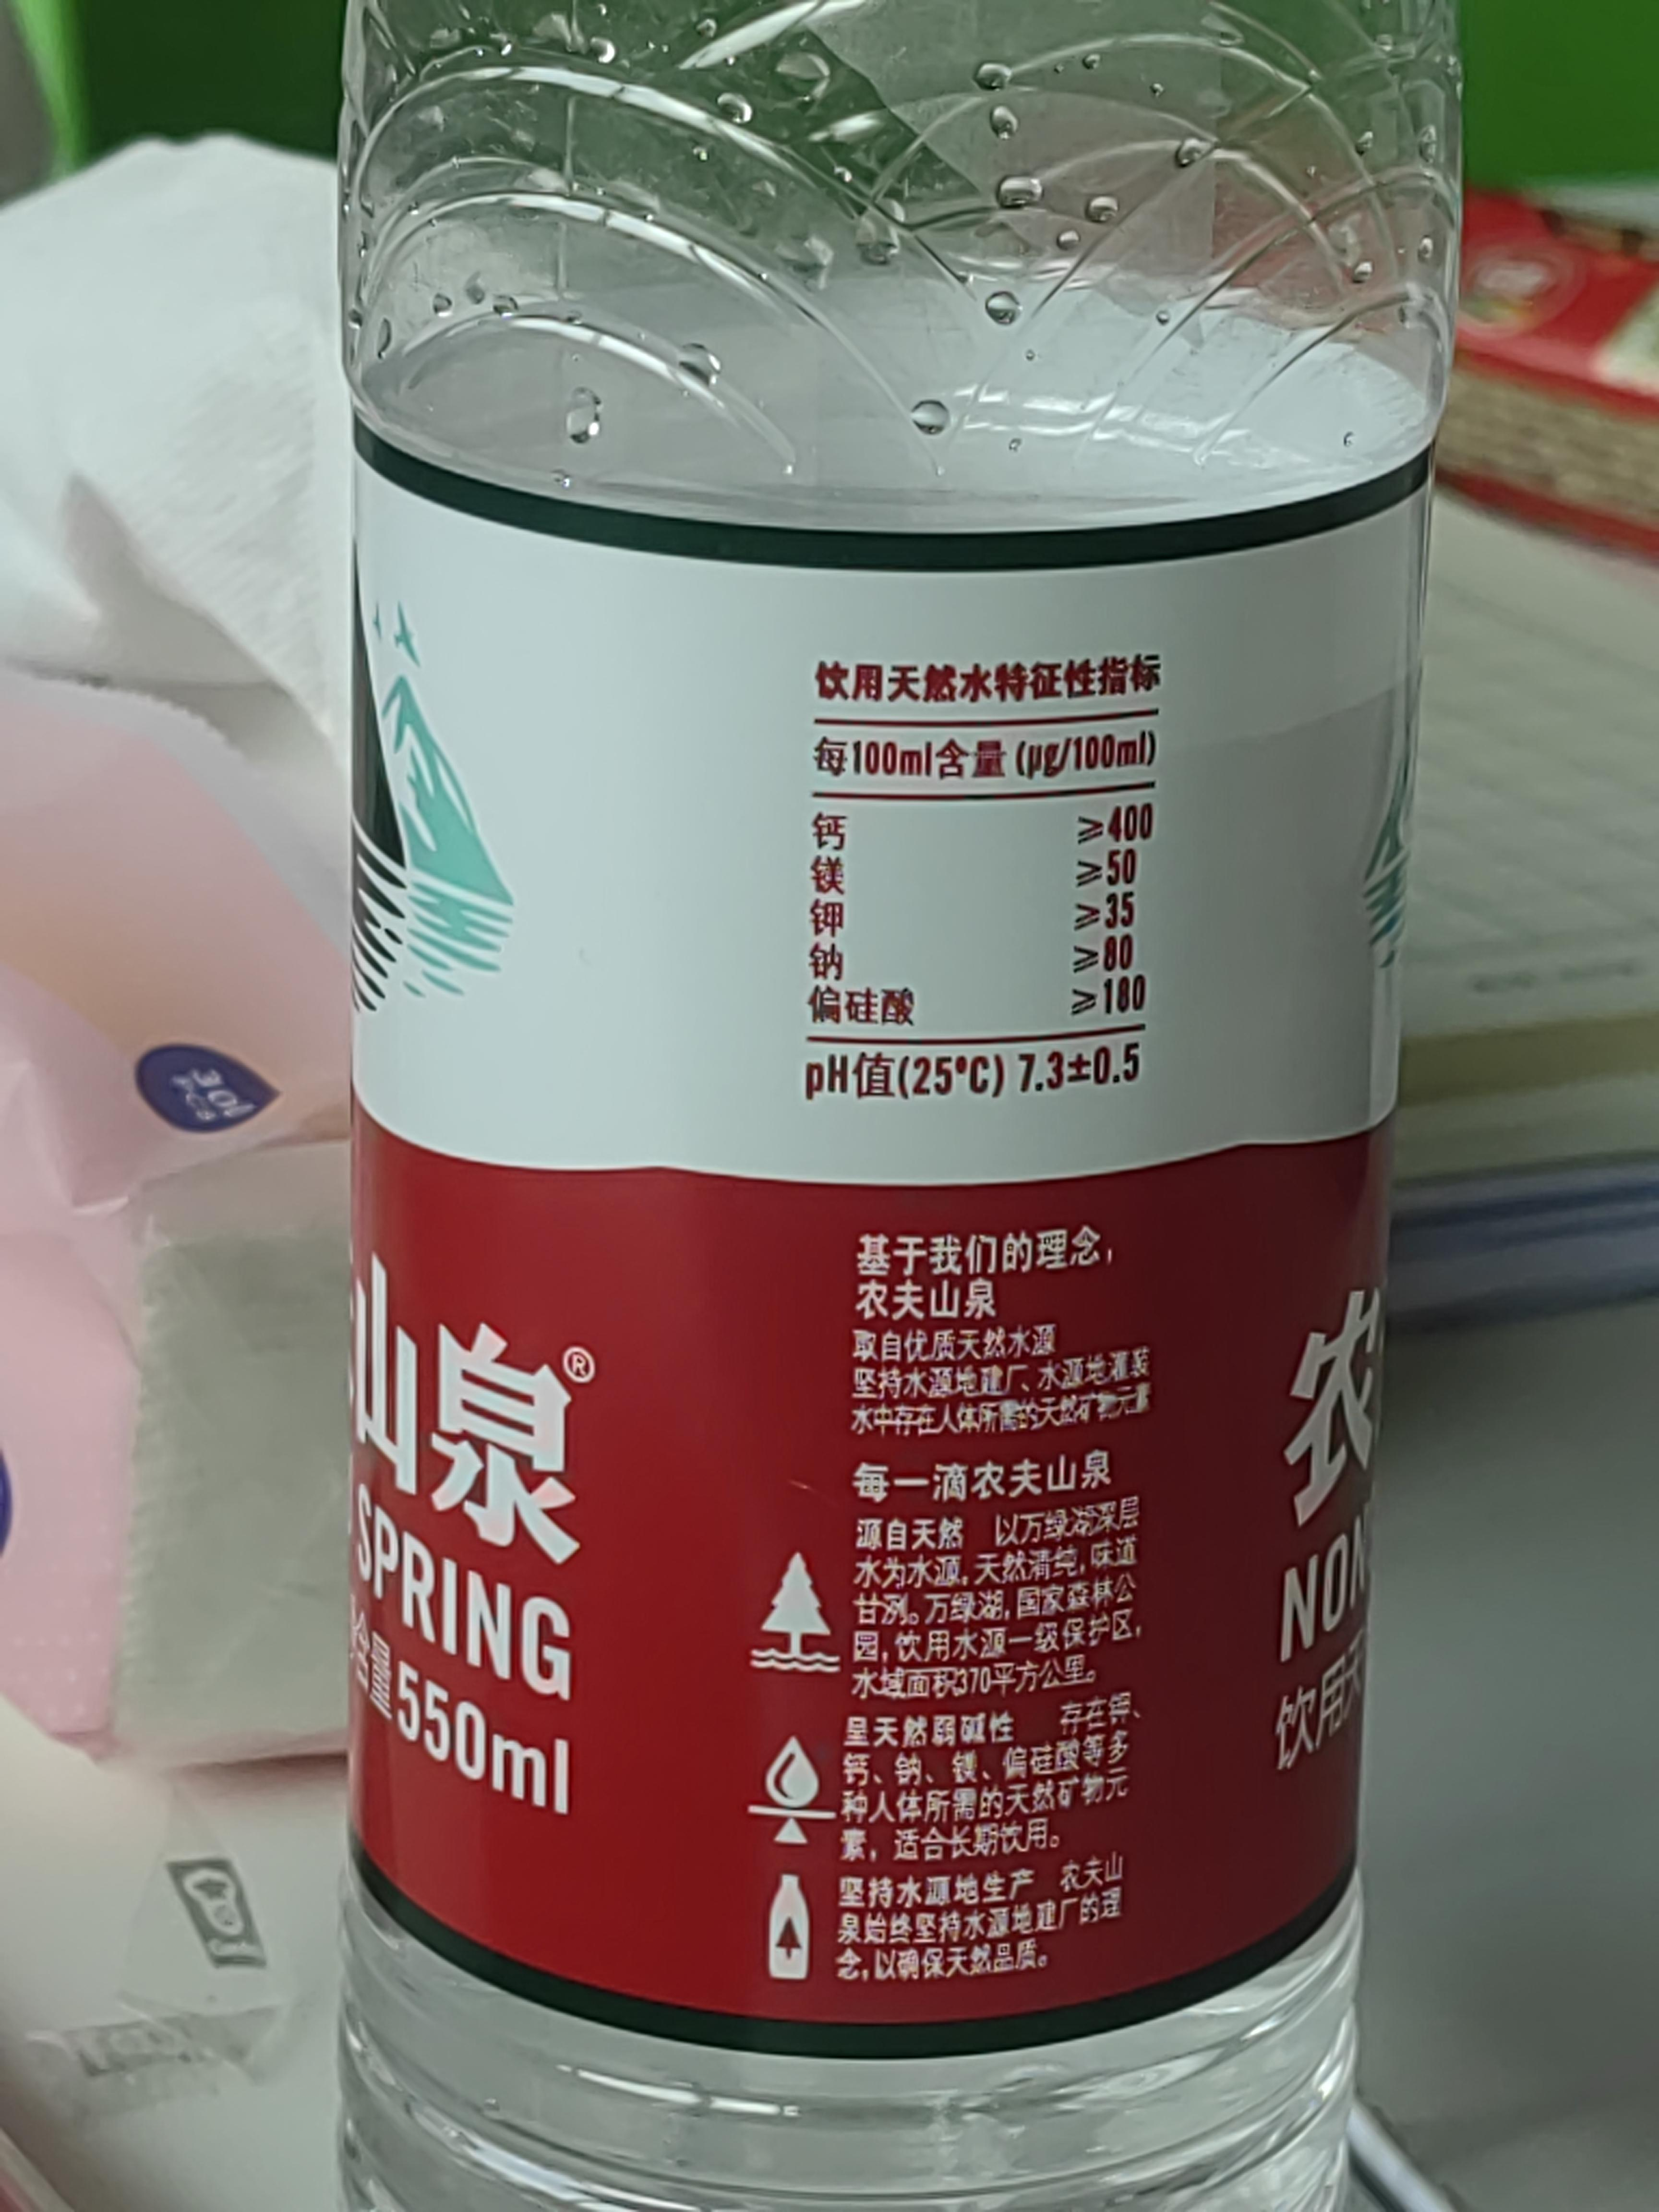BIODEGRADABLE: (319, 0, 1455, 2212)
